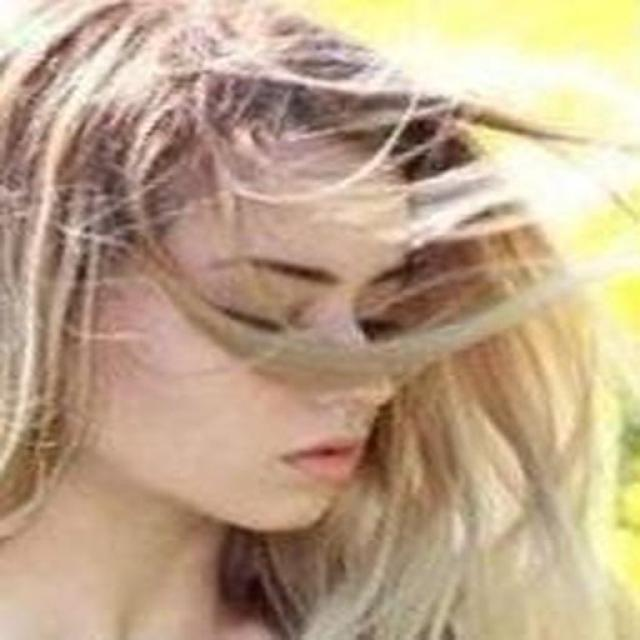bareface: (41, 31, 492, 560)
